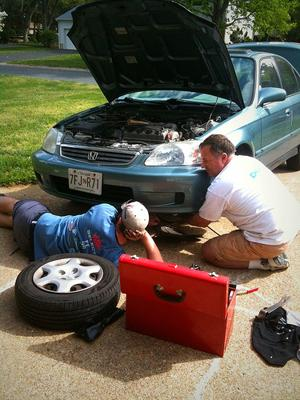person: (187, 134, 300, 277)
